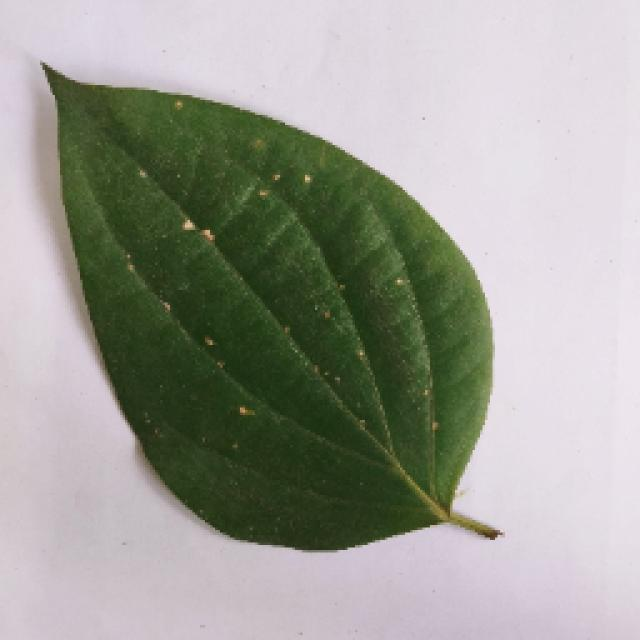pollu-disease: (25, 68, 513, 552)
